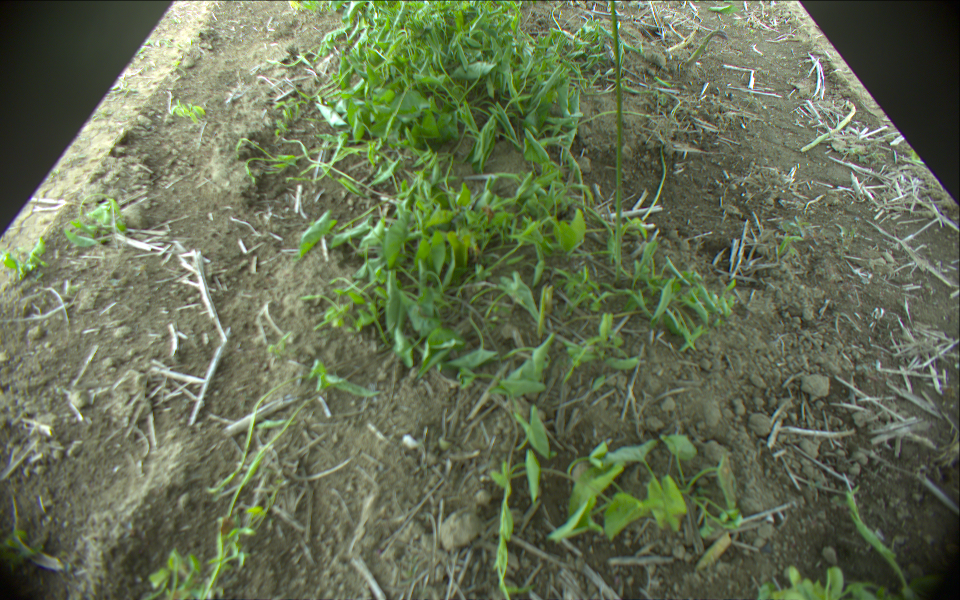aspa: (608, 1, 623, 285), (687, 28, 731, 68)
